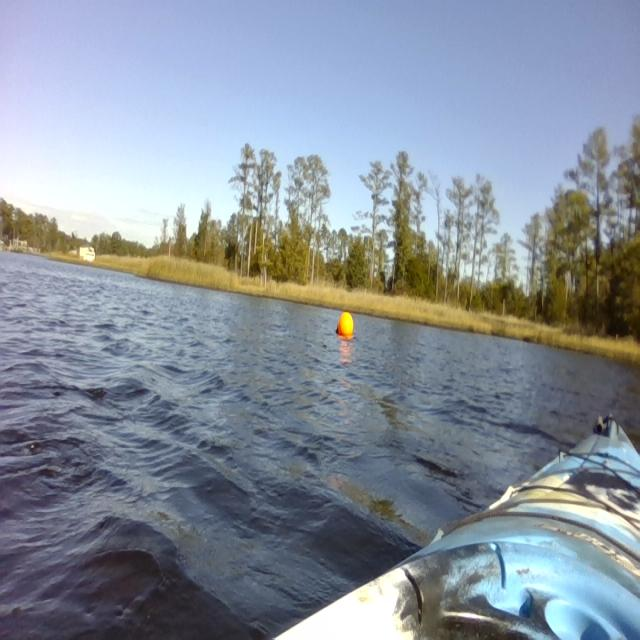Buoy: (333, 307, 361, 348)
